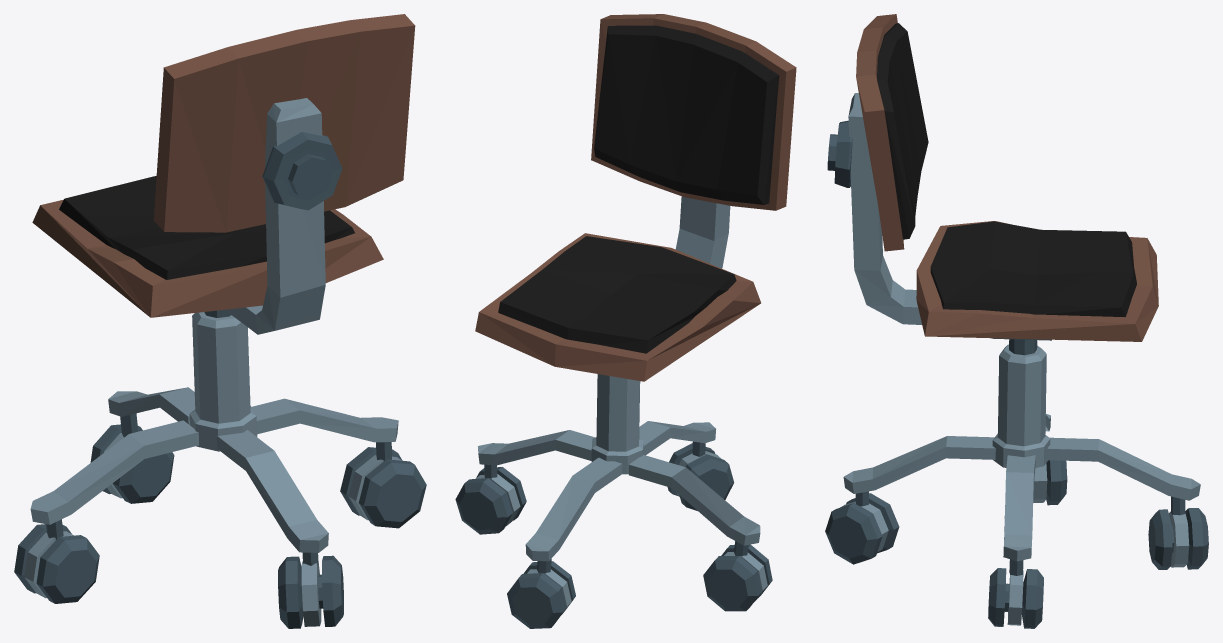
Rendered from Desk Chair.glb.
3 views of the same model, side by side, from view 1: azimuth 30°, elevation 25°; view 2: azimuth 150°, elevation 25°; view 3: azimuth 270°, elevation 25° (orthographic). The views are drawn at different scales.
Visible parts, largest first — view 1: Desk Chair; view 2: Desk Chair; view 3: Desk Chair.
Boxes of the visible parts, x1=… form: Desk Chair: x1=14, y1=14, x2=426, y2=628; Desk Chair: x1=455, y1=14, x2=796, y2=628; Desk Chair: x1=825, y1=14, x2=1208, y2=628.
Size of the model in its own units: 0.6364 by 0.9628 by 0.6525.
